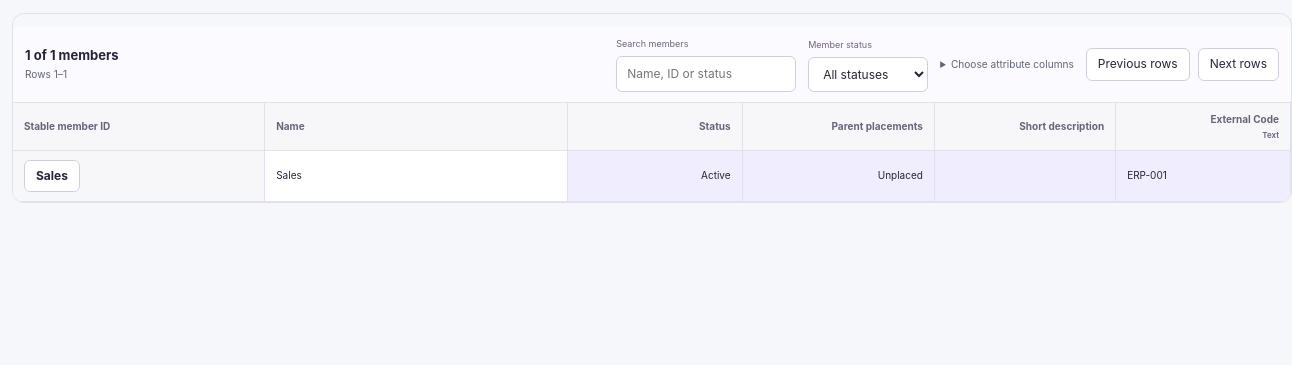
cancels an inline cell draft with Escape without changing metadata
Click the cell named "External Code for Sales" at [1204, 176], box [1116,150,1291,202]
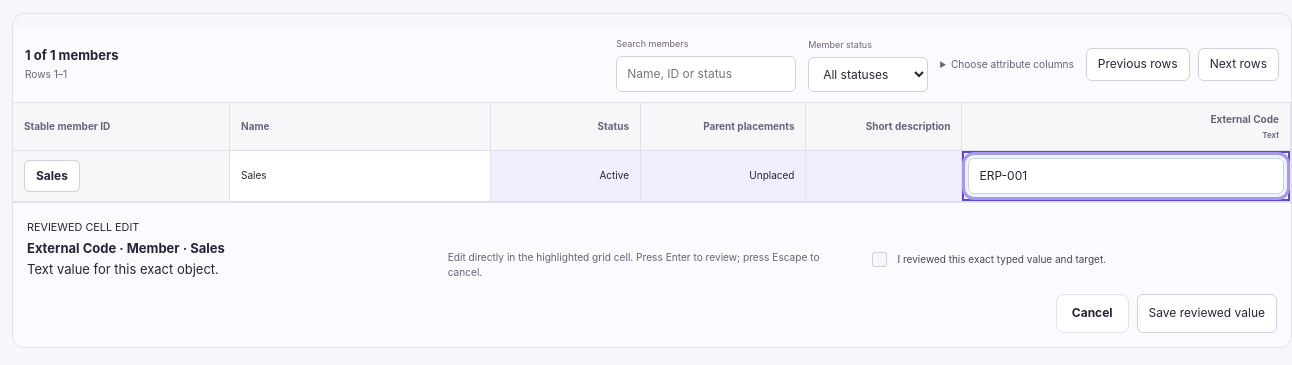
Replace the text in the field named "Typed value" with "DO-NOT-SAVE" at [1126, 176], box [968,158,1284,194]
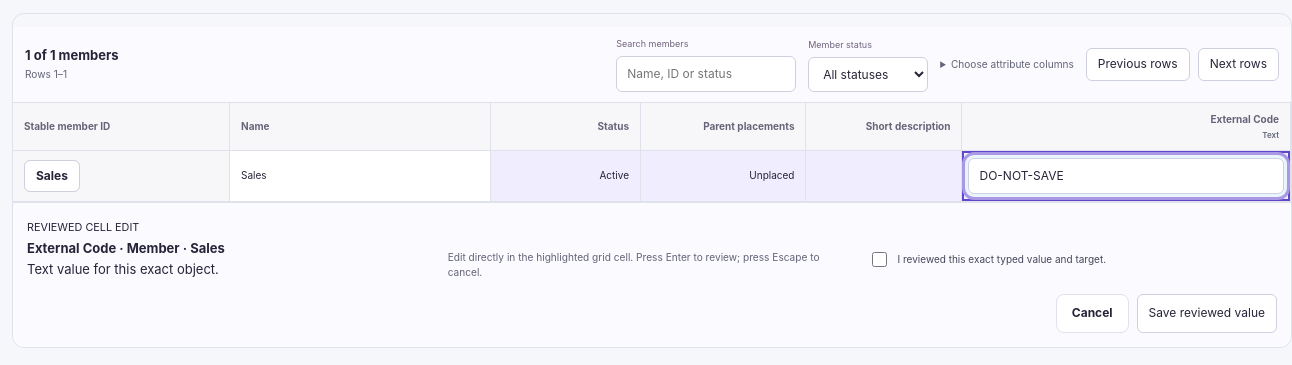
Press Escape in the field named "Typed value", box [968,158,1284,194]
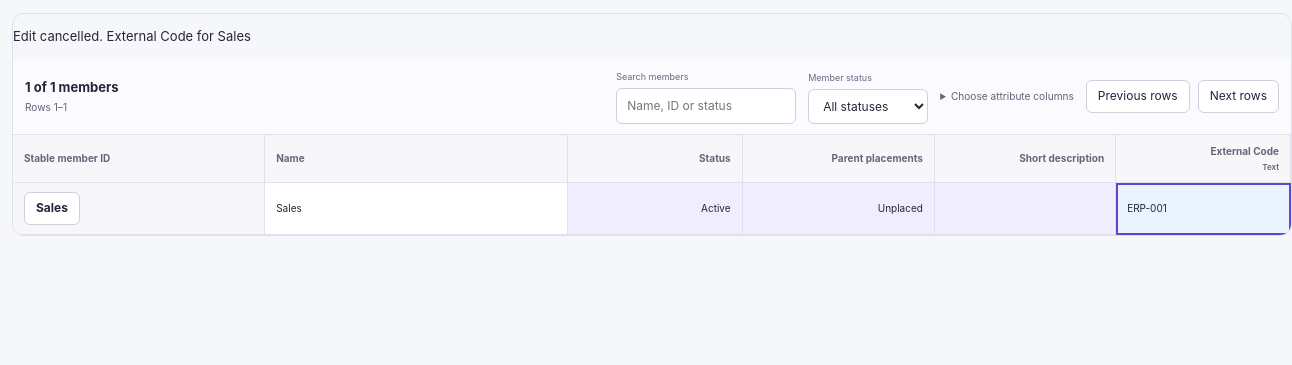
Now the cell named "External Code for Sales" reads "ERP-001", box [1127,202,1167,214]
